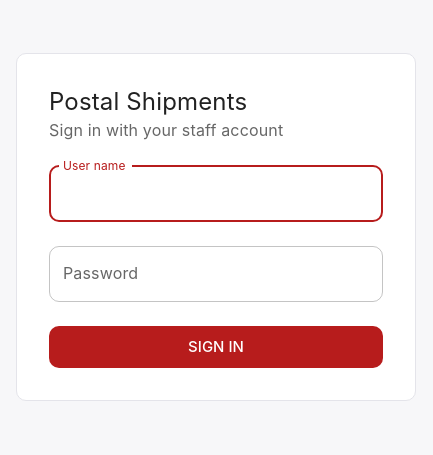
Scenario: LoginPage › shows the server message on failure
The width and height of the screenshot is (433, 455).
Step 1. Type "x" into the field labelled "User name" → (216, 194), box [49, 166, 383, 222]
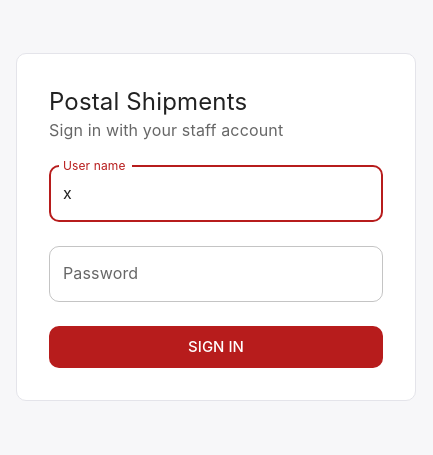
Step 2. Type "y" into the password field labelled "Password" → (216, 274), box [49, 246, 383, 302]
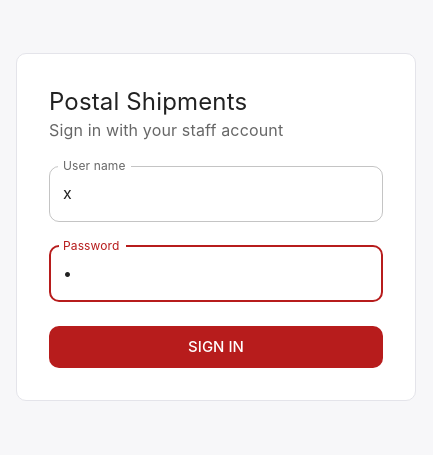
Step 3. Click the button "Sign in" → (216, 347), box [49, 326, 383, 368]
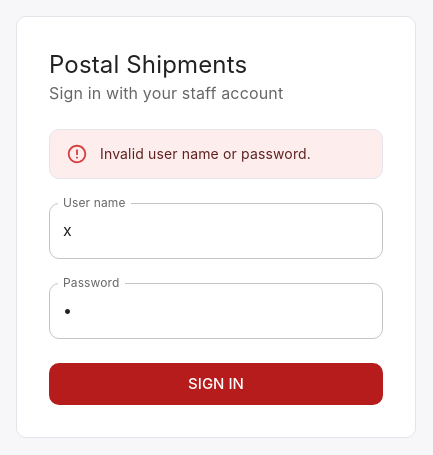
Expected: the text "Invalid user name or password." is shown, [100, 145, 311, 162]
